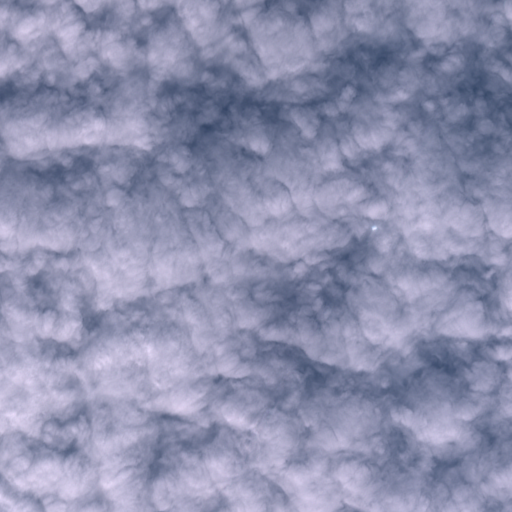Iceberg: (372, 226, 376, 229)
